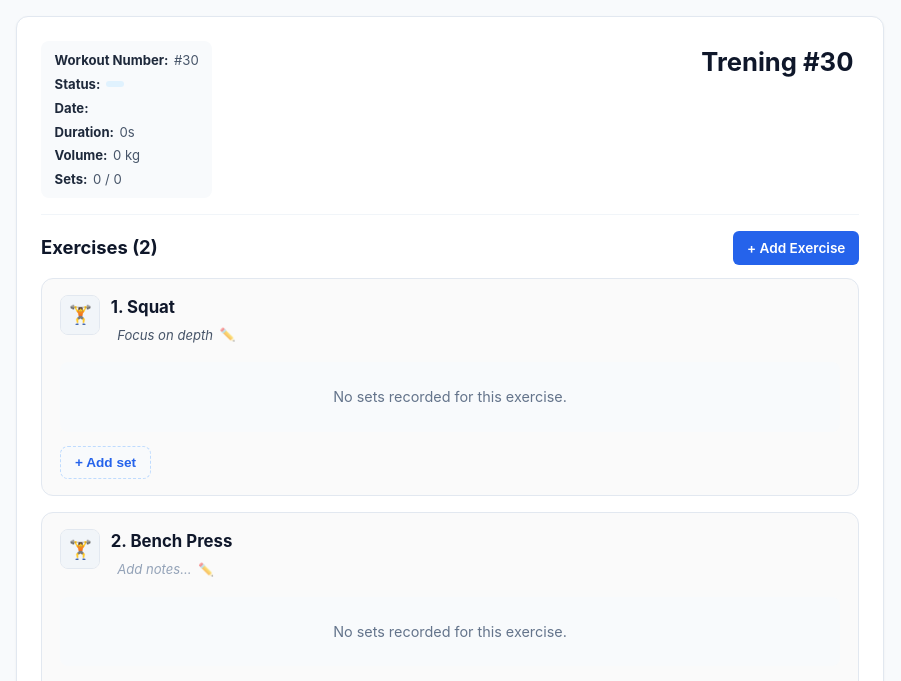
Test: WorkoutDetailComponent › should display exercise notes or placeholder and allow editing on click
Expected: the element with class "exercise-notes-display" shows "Focus on depth", [117,327,213,343]
Expected: the element with class "exercise-notes-display" shows "Add notes...", [117,561,192,577]
// Click on notes to start edit
Click the element with class "exercise-notes-display" showing "Focus on depth ✏️".
click(177, 336)  # box [111,324,244,348]
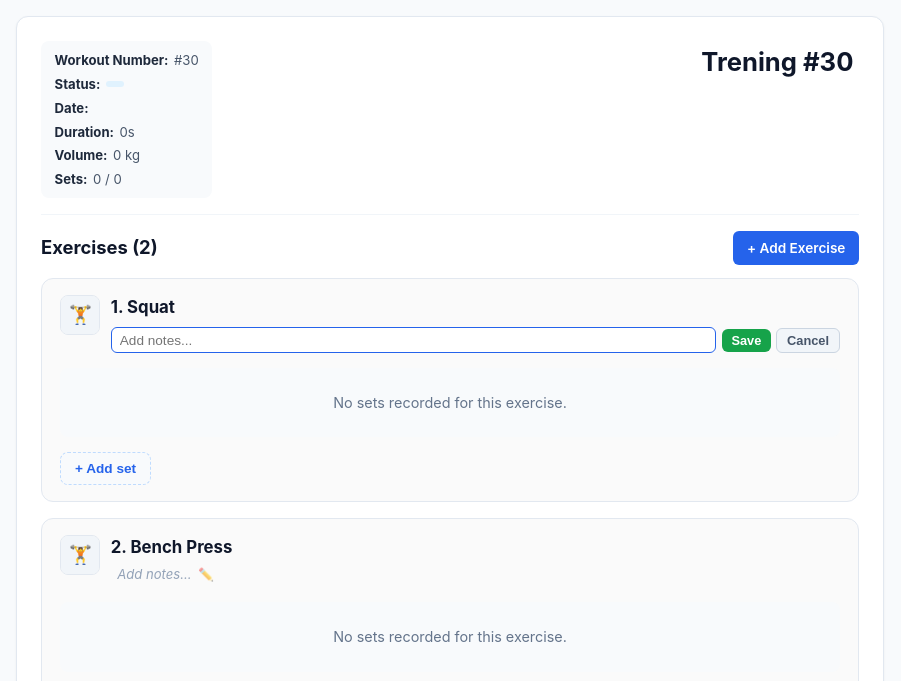
Expected: the field with class "exercise-notes-input" is shown, [111,327,716,353]
